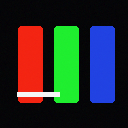3 line_h: (17, 92, 59, 96)
